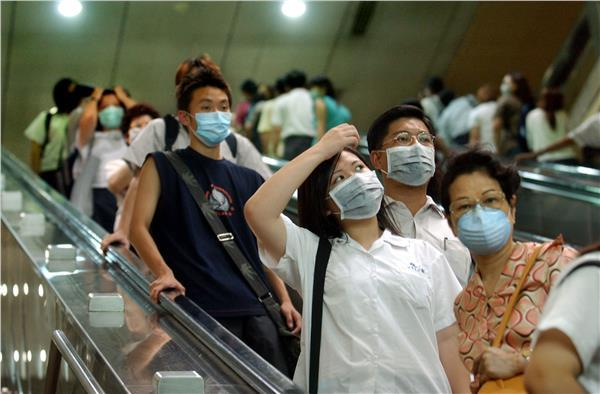OK: (456, 182, 513, 253), (323, 155, 380, 219), (380, 129, 435, 188), (194, 93, 235, 145), (95, 94, 125, 124), (131, 120, 157, 146)
